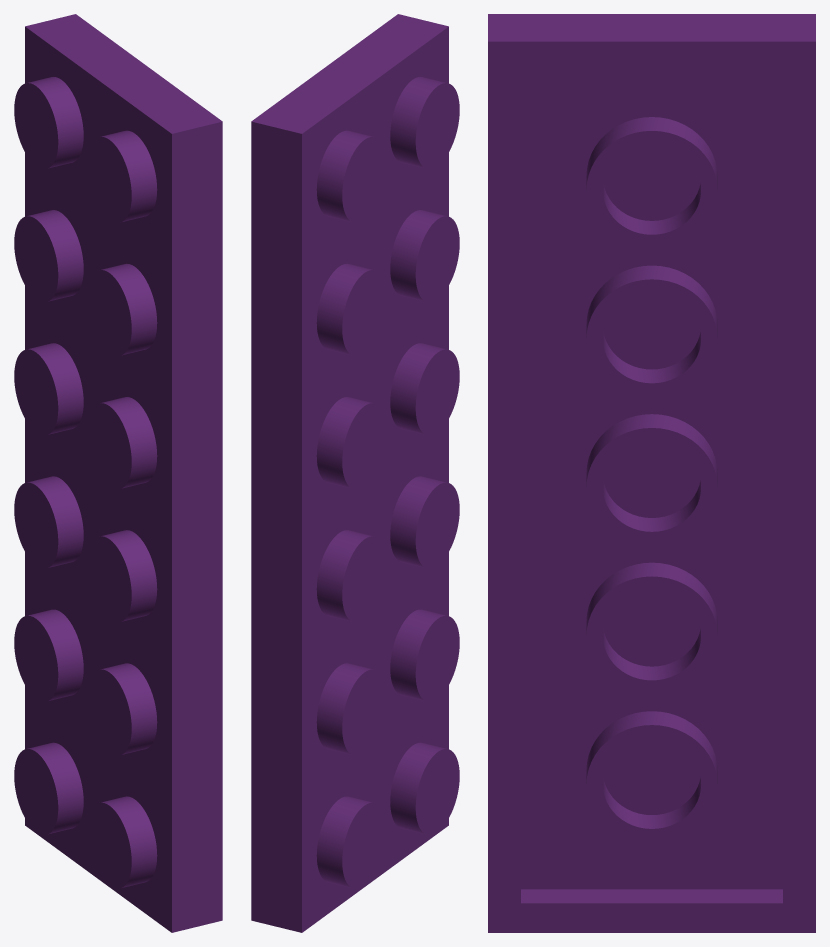
File: plate2*6_medium_lavender.obj
The picture shows the model from 3 angles, left to right: view 1: azimuth 30°, elevation 25°; view 2: azimuth 150°, elevation 25°; view 3: azimuth 270°, elevation 25°; orthographic projection. The views are drawn at different scales.
Size of the model in its own units: 12 by 120 by 40.
